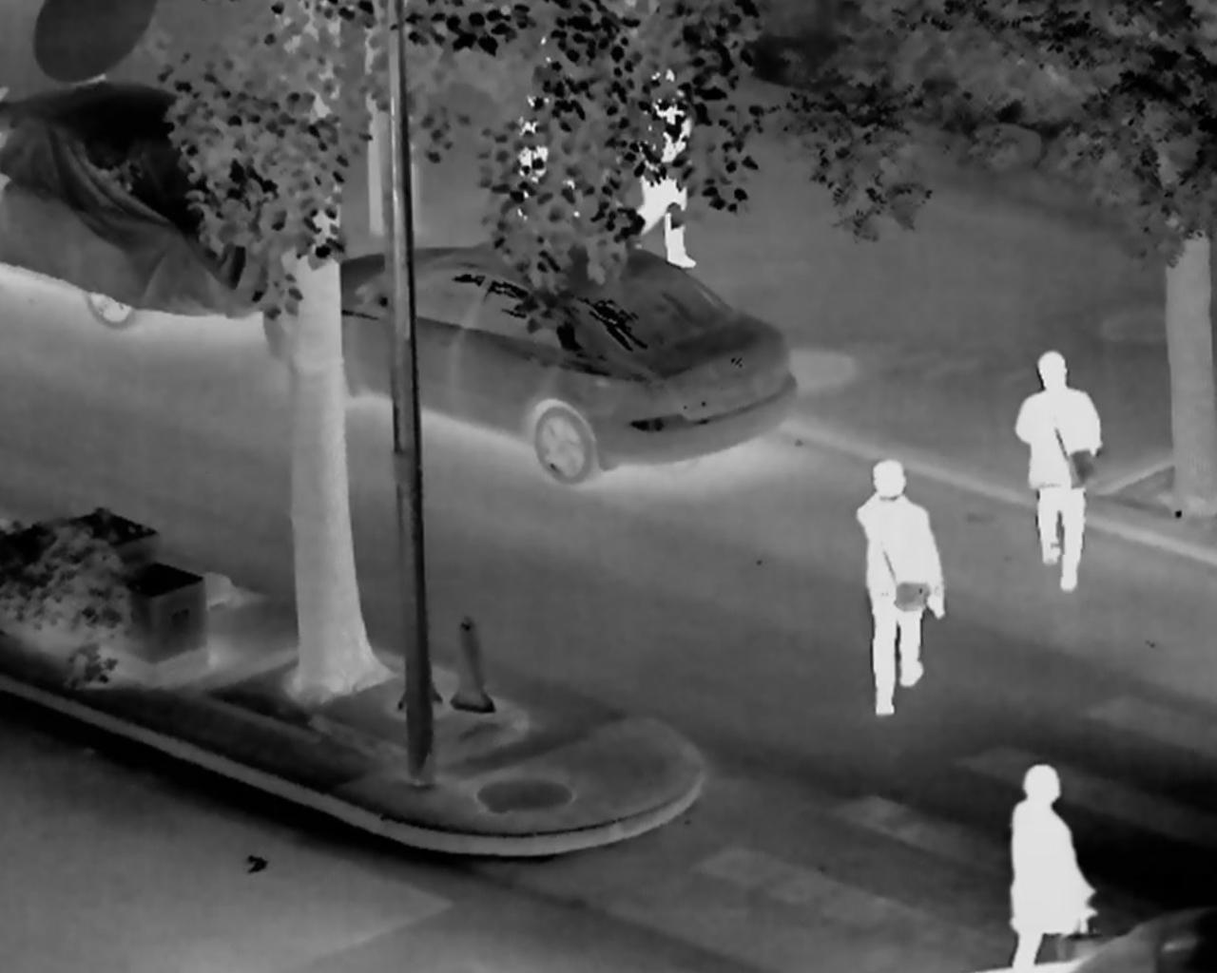person: (857, 458, 944, 719), (1013, 353, 1098, 589), (1004, 763, 1098, 967), (631, 66, 702, 277)
